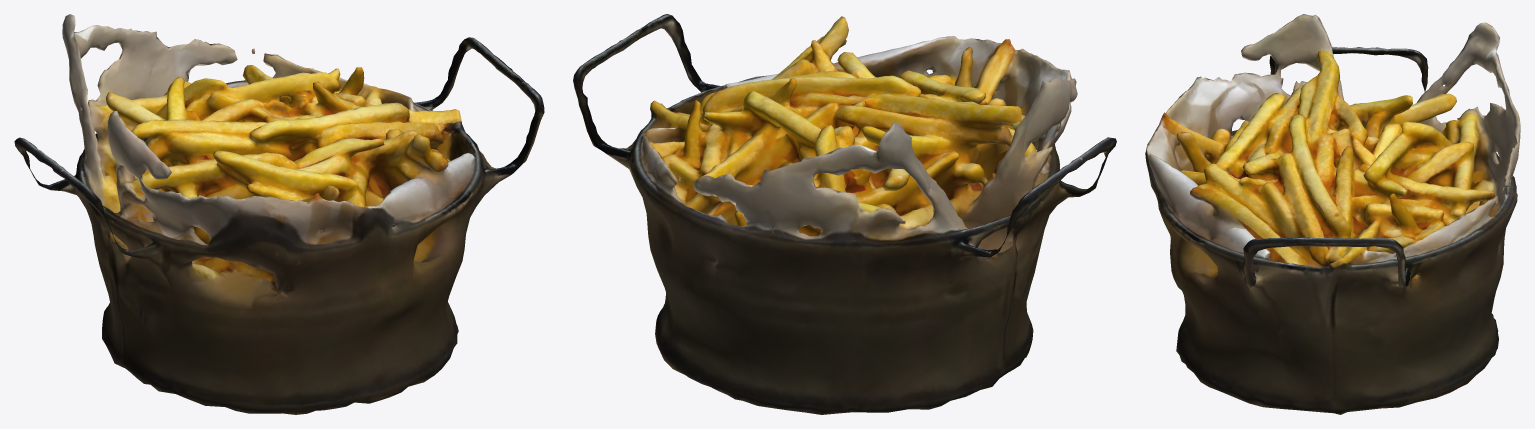
The model's file is patateskizartmasi.glb.
3 views of the same model, side by side, from view 1: azimuth 30°, elevation 25°; view 2: azimuth 150°, elevation 25°; view 3: azimuth 270°, elevation 25° (orthographic). The views are drawn at different scales.
Size of the model in its own units: 0.8467 by 0.5436 by 0.678.
Materials: 1 (1 with a texture image).
